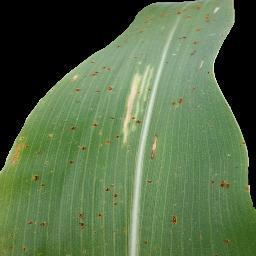Corn_Common_Rust: (66, 0, 218, 61), (70, 79, 119, 171), (124, 59, 164, 158), (0, 128, 65, 186), (30, 50, 113, 87), (162, 64, 207, 117), (203, 163, 256, 207), (1, 239, 130, 256), (92, 179, 138, 215), (68, 207, 109, 242), (9, 210, 54, 241), (114, 229, 156, 253), (127, 167, 160, 192), (227, 129, 256, 156), (160, 211, 185, 242), (211, 239, 249, 256)
